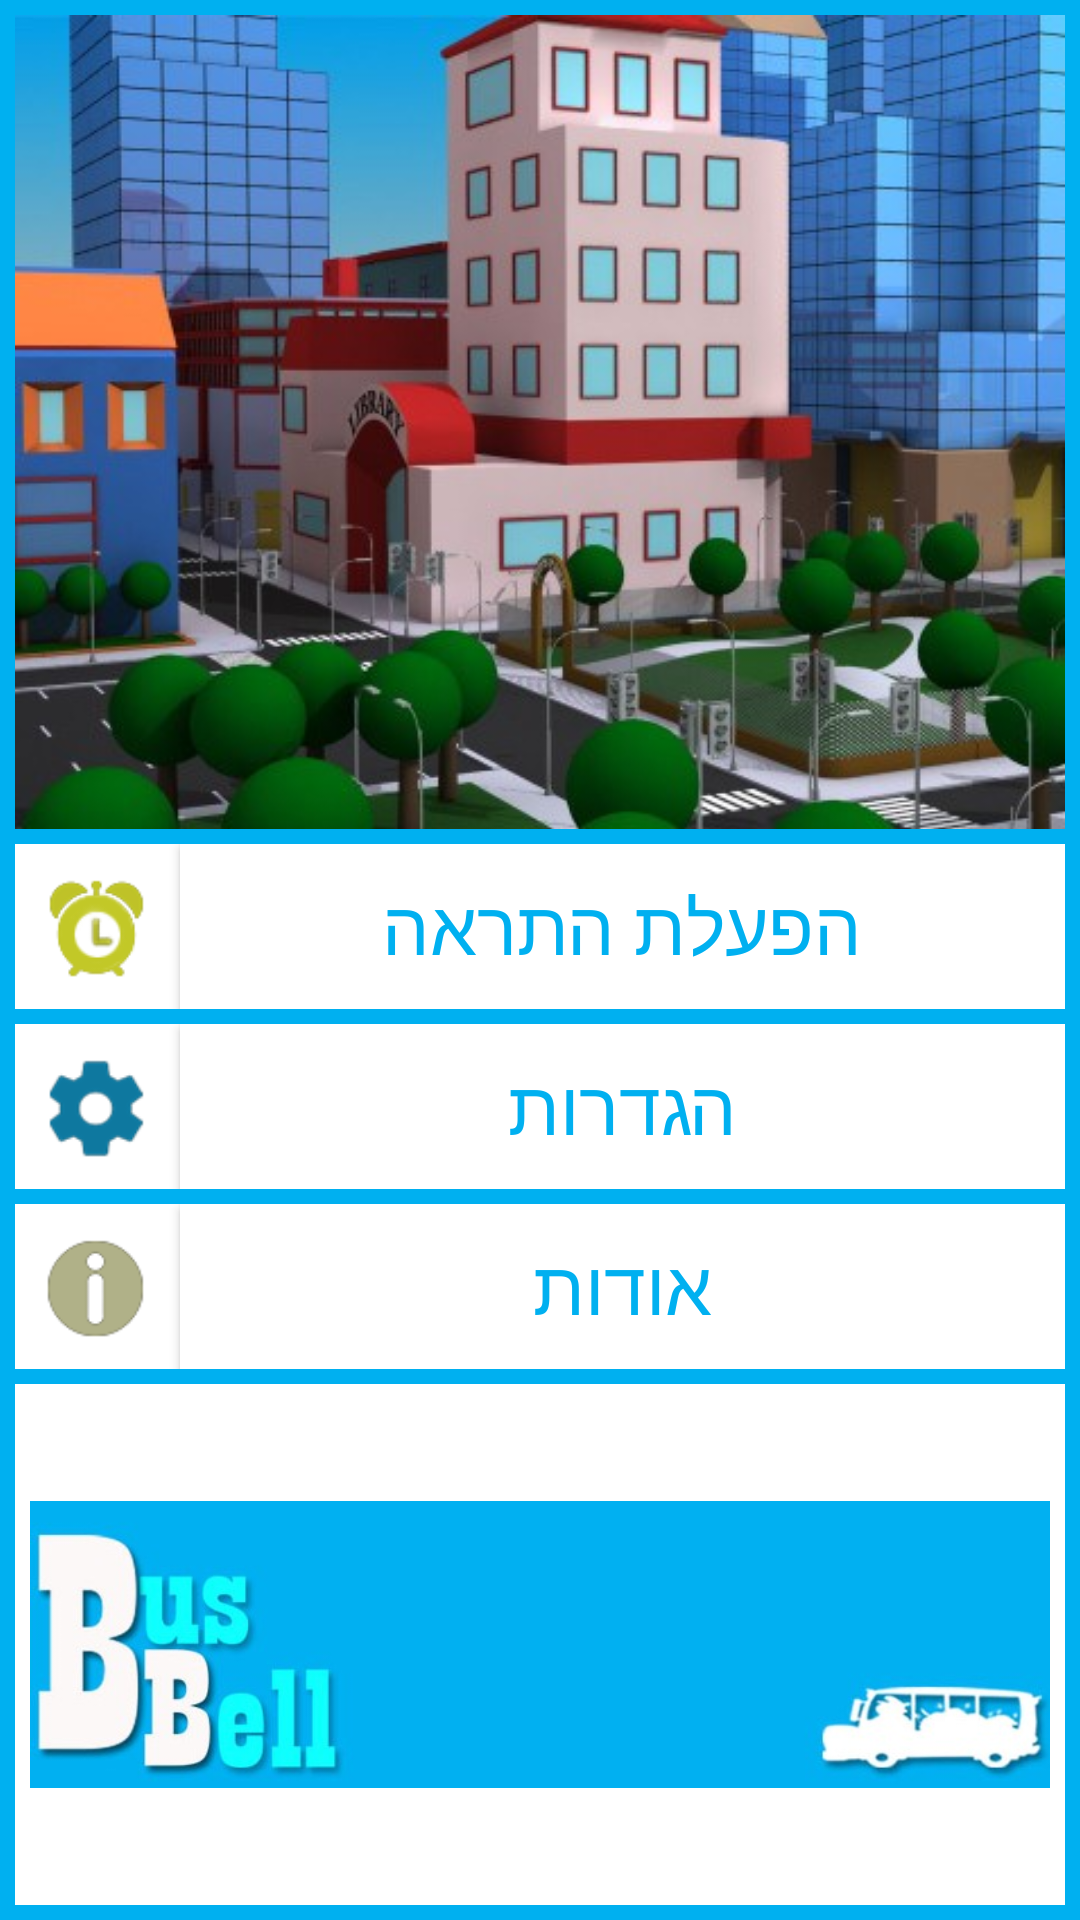

Screen size 1080x1920. Icon name, then its box in pixels as Rect(x1, y1, x2, y2):
about: Rect(15, 1204, 180, 1369)
alarm: Rect(15, 844, 180, 1009)
settings: Rect(15, 1024, 180, 1189)
